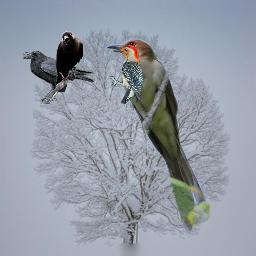Crow: (23, 51, 94, 104), (55, 31, 83, 92)
Cuckoo: (106, 38, 210, 234)
Woodpecker: (110, 45, 144, 104)
